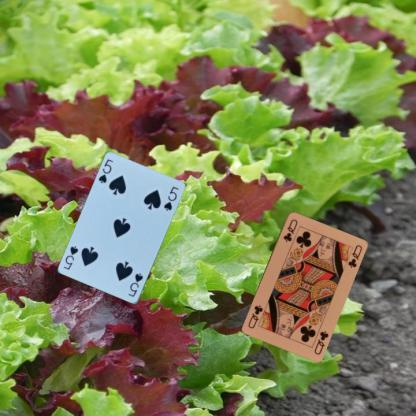5s: (96, 156, 114, 185), (126, 271, 144, 298)
Qc: (311, 328, 330, 356), (280, 216, 299, 243)
